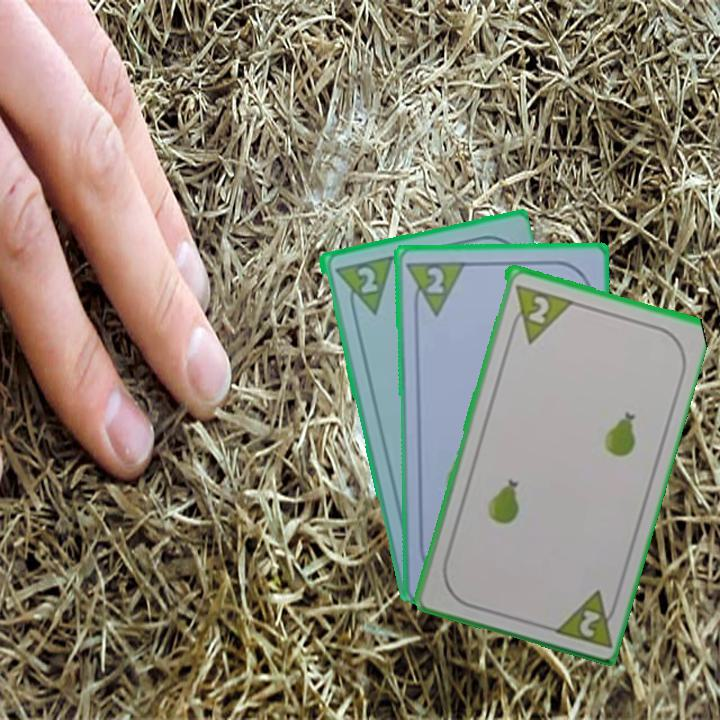2p: (547, 585, 622, 650), (504, 280, 573, 346), (330, 252, 394, 321), (402, 257, 467, 318)
